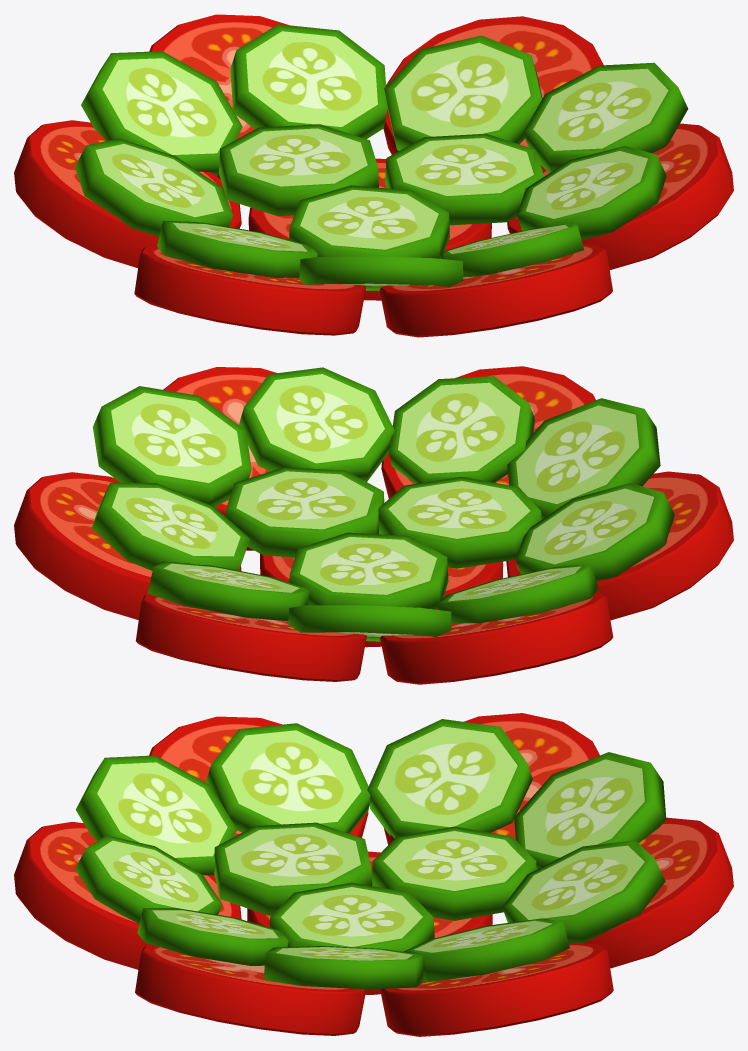
File: SM_Tomato-Cucumber_Plate.fbx
3 views of the same model, one above another, from view 1: azimuth 30°, elevation 25°; view 2: azimuth 150°, elevation 25°; view 3: azimuth 270°, elevation 25° (orthographic).
Parts seen in each view (by area): view 1: Tomato-Cucumber_Plate; view 2: Tomato-Cucumber_Plate; view 3: Tomato-Cucumber_Plate.
Boxes of the visible parts, bbox=[...] form: Tomato-Cucumber_Plate: bbox=[14, 14, 733, 337]; Tomato-Cucumber_Plate: bbox=[14, 366, 733, 684]; Tomato-Cucumber_Plate: bbox=[14, 713, 733, 1036].
Bounding box in the file's own units: 113 × 24.37 × 123.
